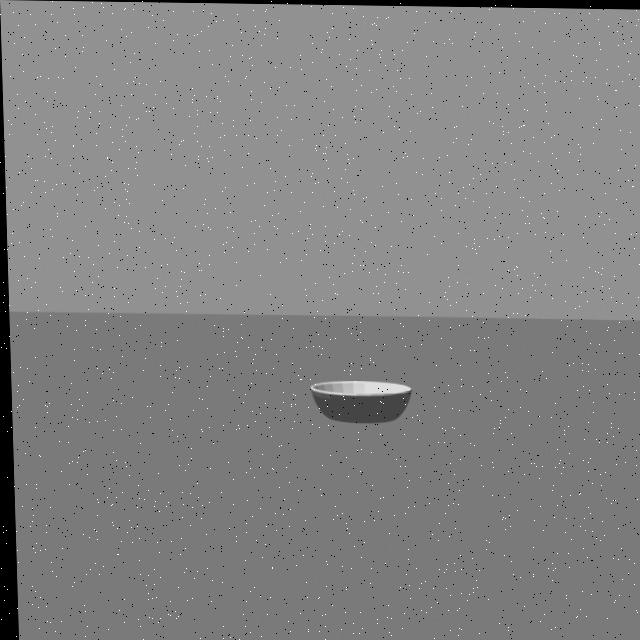bowl: (294, 368, 419, 433)
